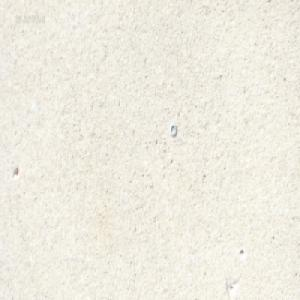Washer: (169, 122, 177, 137)
